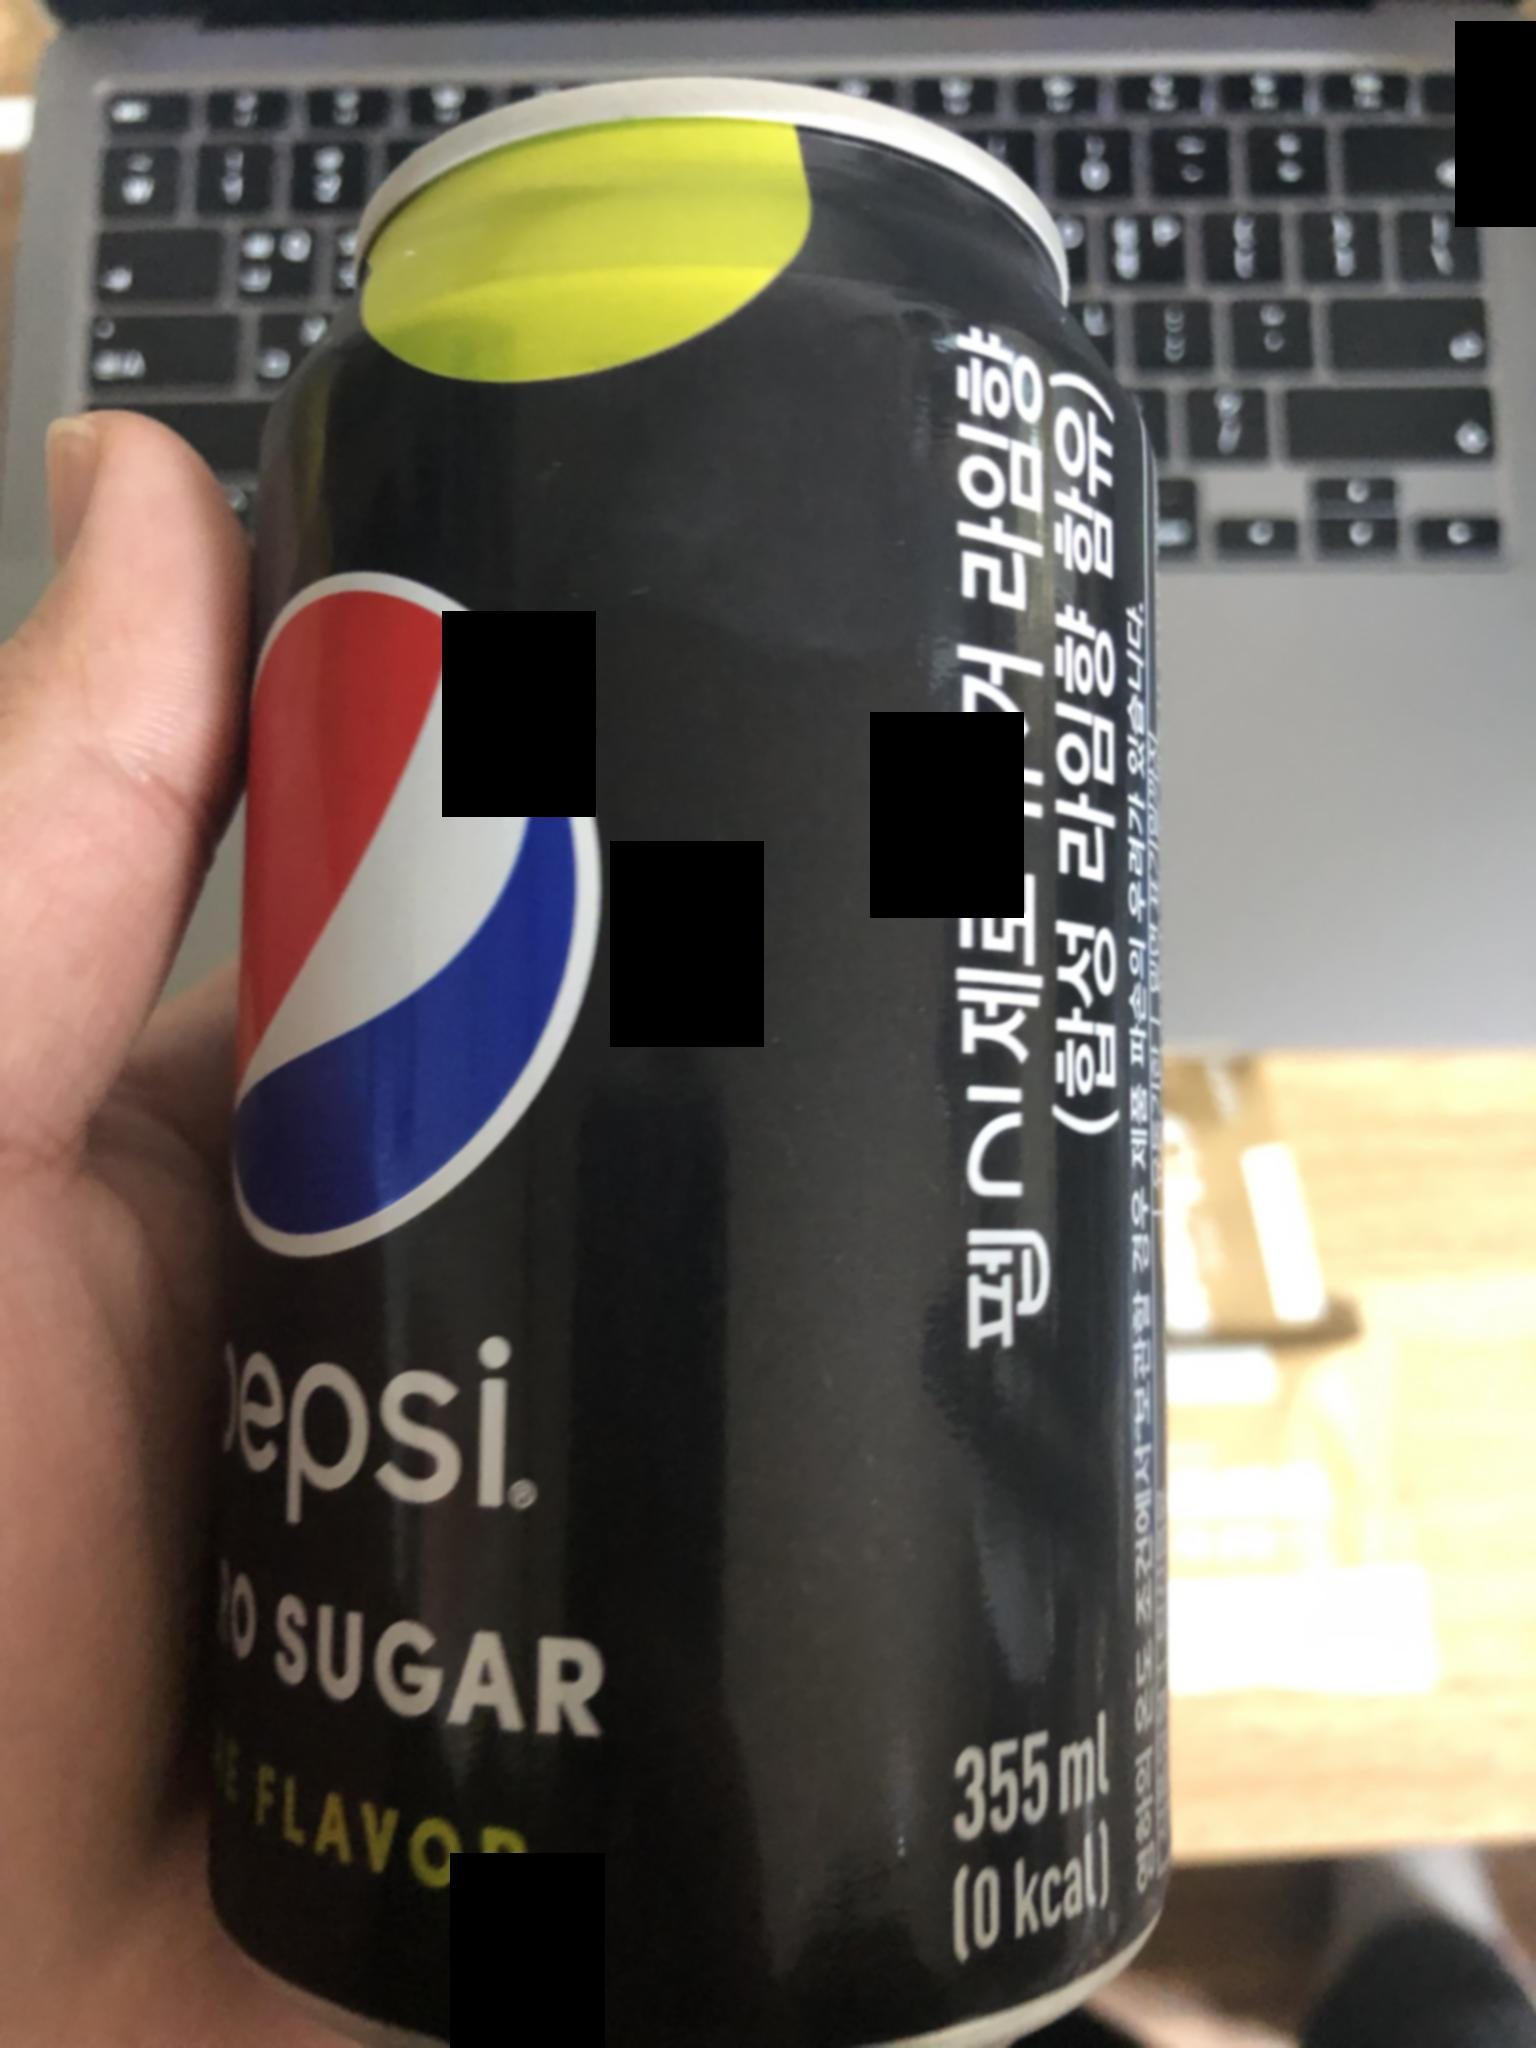pepsi_zero: (139, 71, 1234, 2046)
